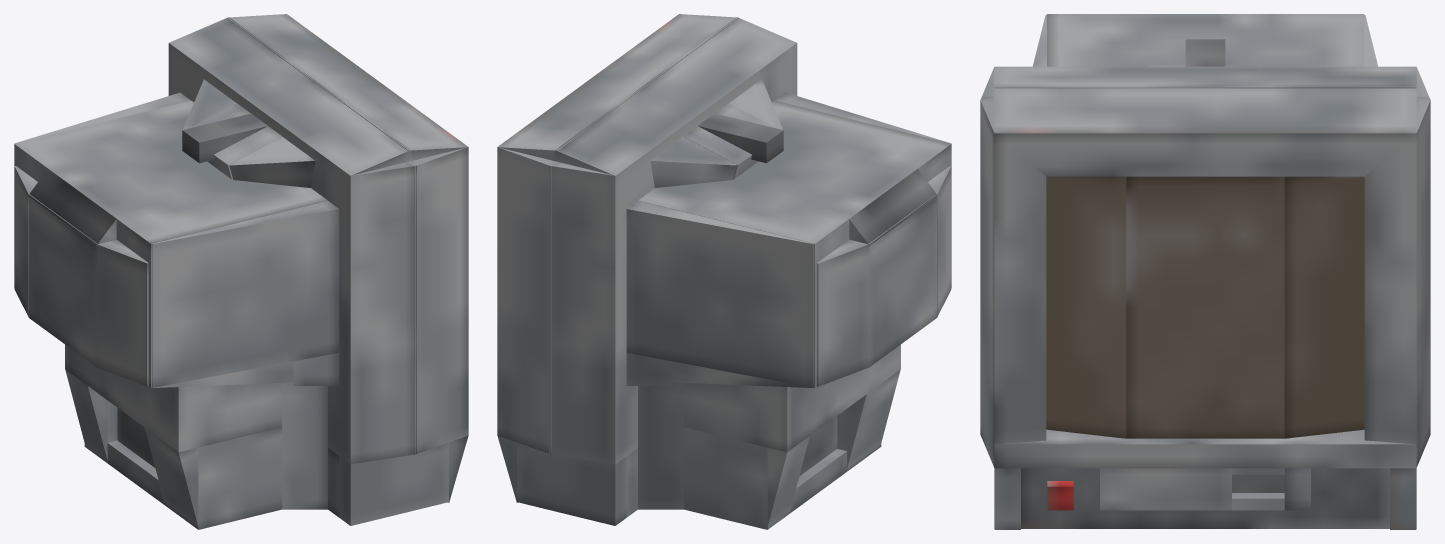
The model's file is tool_cupboard.obj.
The picture shows the model from 3 angles, left to right: view 1: azimuth 30°, elevation 25°; view 2: azimuth 150°, elevation 25°; view 3: azimuth 270°, elevation 25°; orthographic projection. The views are drawn at different scales.
Visible parts, largest first — view 1: mesh_21, mesh_22, mesh_6, mesh_5, mesh_3, mesh_35, mesh_4, mesh_24, mesh_20, mesh_40, mesh_26, mesh_10 (+16 smaller); view 2: mesh_28, mesh_22, mesh_8, mesh_7, mesh_3, mesh_35, mesh_4, mesh_24, mesh_20, mesh_41, mesh_23, mesh_9 (+16 smaller); view 3: mesh_0, mesh_4, mesh_1, mesh_2, mesh_7, mesh_5, mesh_22, mesh_19, mesh_13, mesh_3, mesh_18, mesh_11 (+7 smaller).
Part boxes in pixels (<box>): mesh_21: <box>152,201,339,387</box>; mesh_22: <box>14,100,327,387</box>; mesh_6: <box>350,161,416,464</box>; mesh_5: <box>407,147,468,454</box>; mesh_3: <box>169,17,412,175</box>; mesh_35: <box>65,344,282,452</box>; mesh_4: <box>227,14,468,161</box>; mesh_24: <box>29,194,115,367</box>; mesh_20: <box>168,43,350,463</box>; mesh_40: <box>164,427,282,529</box>; mesh_26: <box>96,239,148,386</box>; mesh_10: <box>339,442,448,525</box>; mesh_28: <box>626,201,813,387</box>; mesh_22: <box>638,100,951,387</box>; mesh_8: <box>549,161,615,464</box>; mesh_7: <box>497,147,558,454</box>; mesh_3: <box>553,17,796,175</box>; mesh_35: <box>683,344,900,452</box>; mesh_4: <box>497,14,738,161</box>; mesh_24: <box>850,194,936,367</box>; mesh_20: <box>615,43,797,463</box>; mesh_41: <box>683,427,790,529</box>; mesh_23: <box>817,239,869,386</box>; mesh_9: <box>517,442,626,525</box>; mesh_0: <box>1126,176,1284,438</box>; mesh_4: <box>994,86,1416,176</box>; mesh_1: <box>1046,176,1126,438</box>; mesh_2: <box>1284,176,1364,438</box>; mesh_7: <box>1364,98,1430,467</box>; mesh_5: <box>980,98,1046,467</box>; mesh_22: <box>1047,14,1363,66</box>; mesh_19: <box>1021,468,1389,528</box>; mesh_13: <box>994,429,1416,468</box>; mesh_3: <box>994,66,1416,88</box>; mesh_18: <box>1100,468,1231,510</box>; mesh_11: <box>994,468,1020,529</box>.
Bounding box in the file's own units: 0.9124 × 1 × 0.9713.
